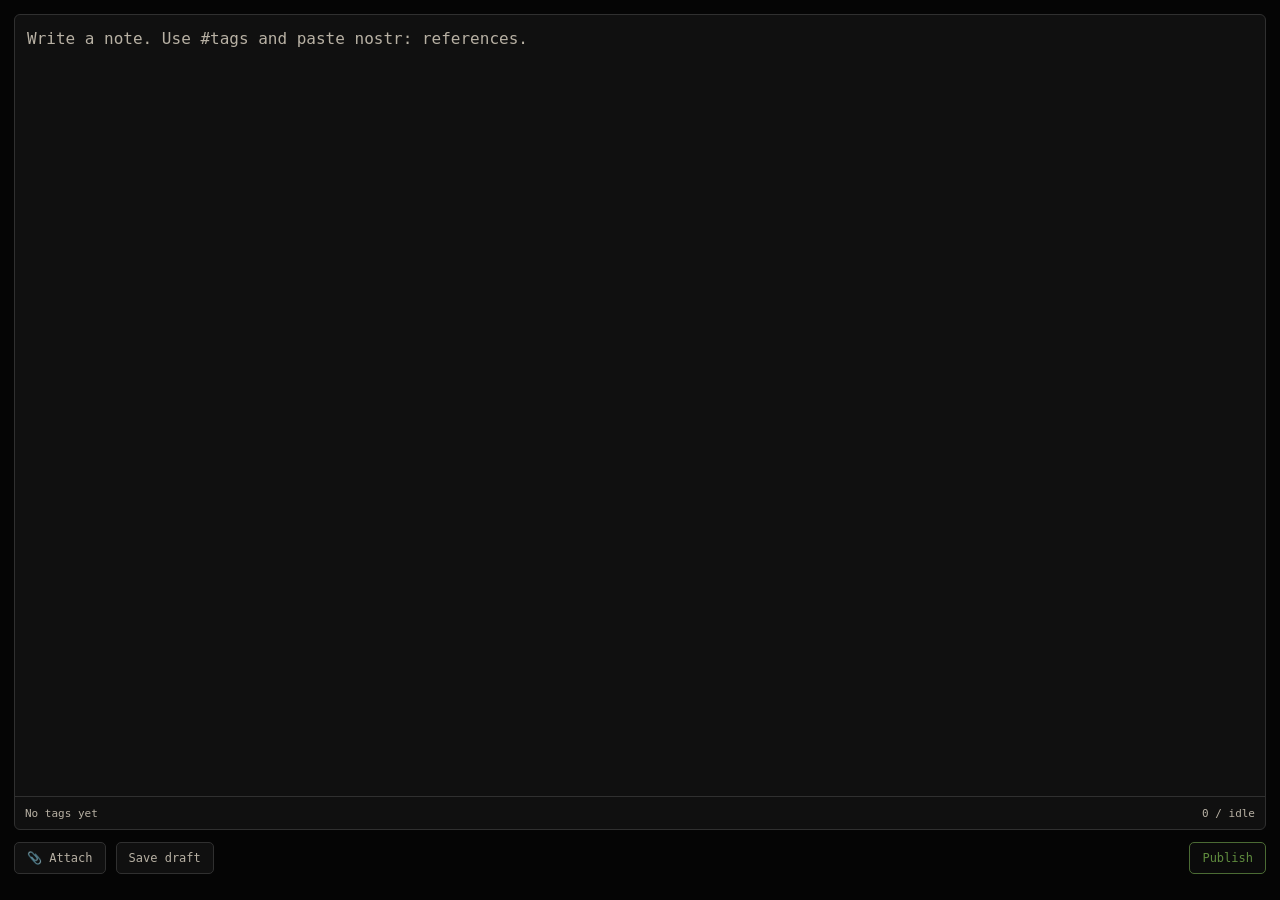
compose app reply context › supports ArrowDown plus Tab selection in the mention list
Type "@bo" into the text box with placeholder "Write a note. Use #tags and paste nostr: references." at [640, 406], box [15, 15, 1265, 796]
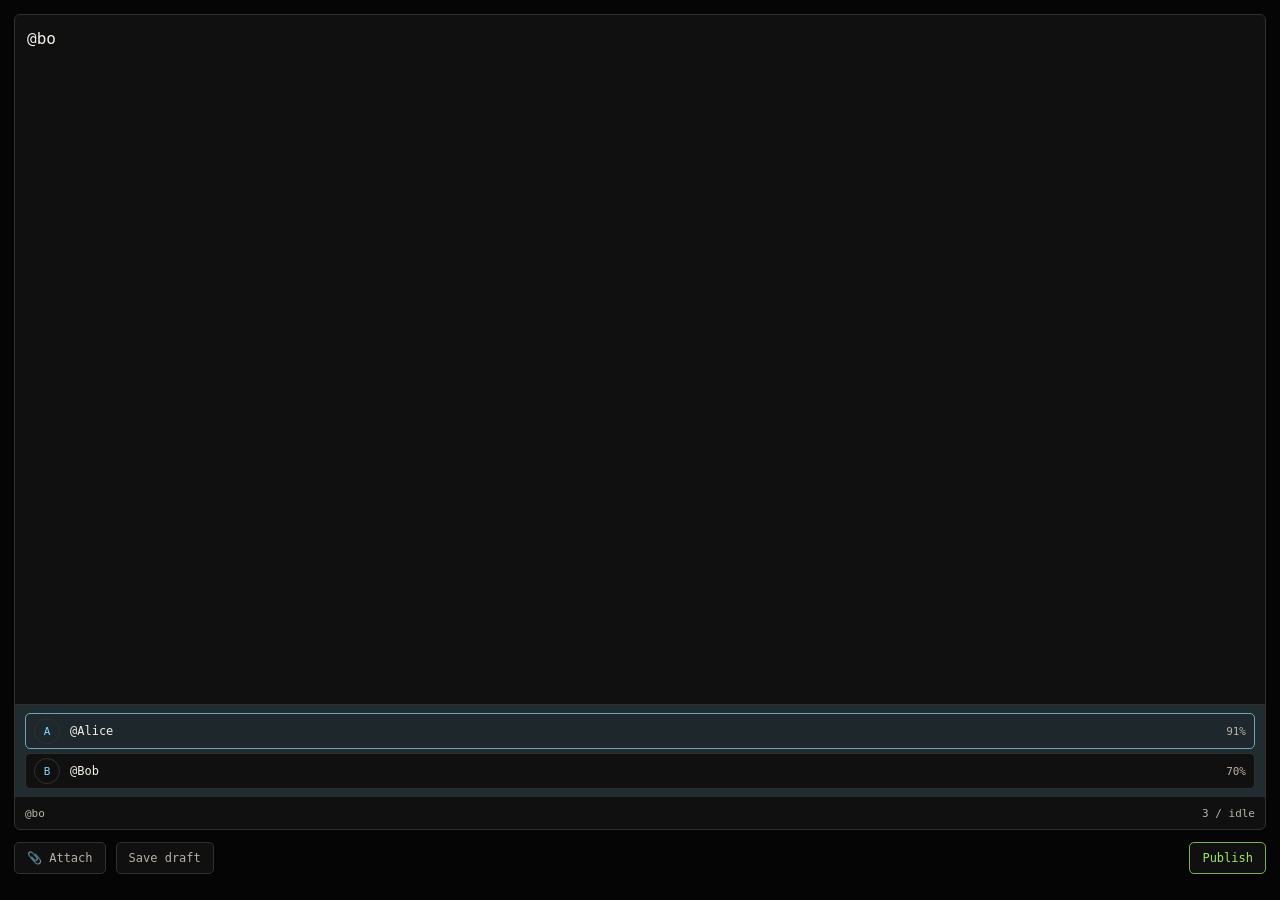
Press ArrowDown in the text box named "Compose note"
Press Tab in the text box named "Compose note"
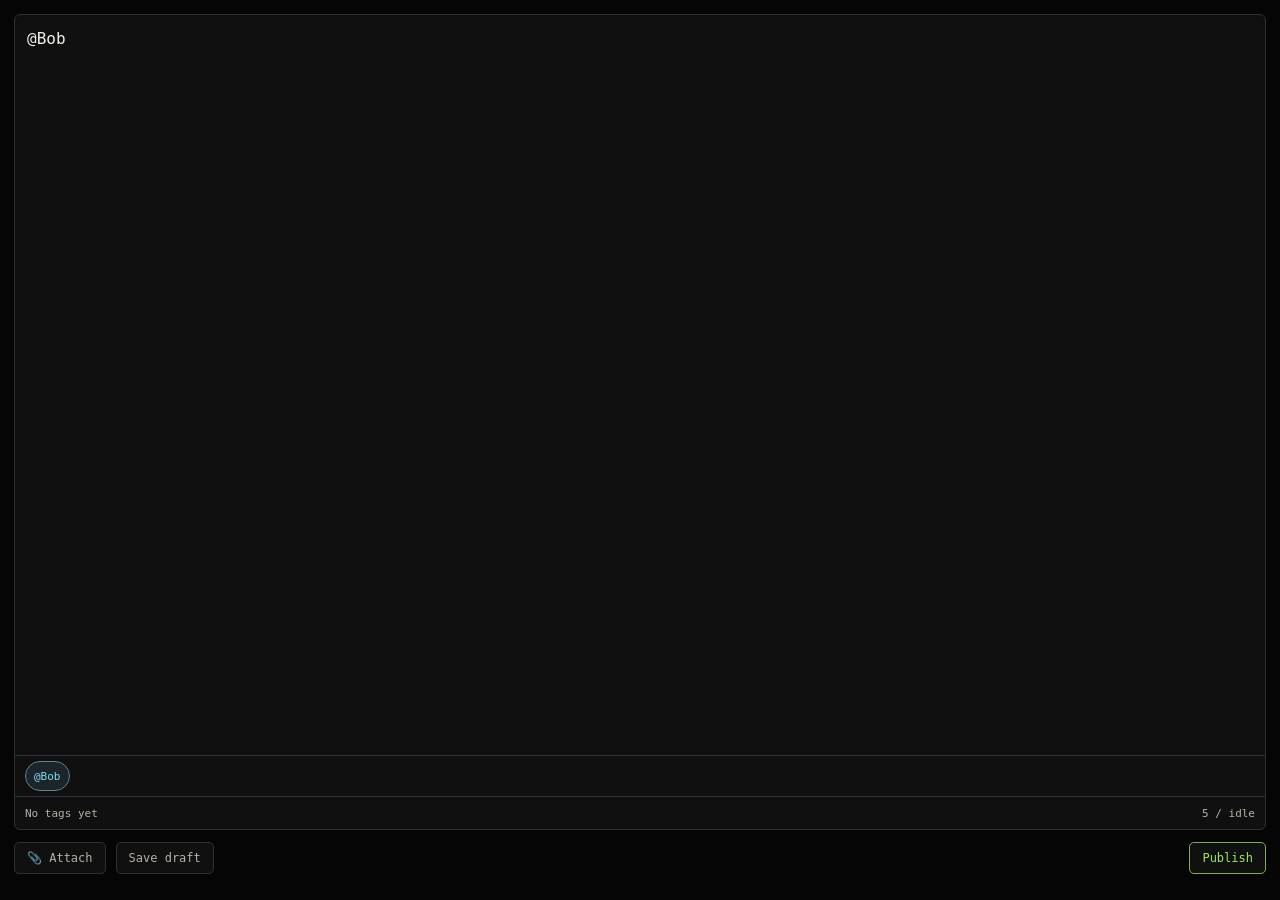
expect the text box named "Compose note" holds "@Bob ": met
